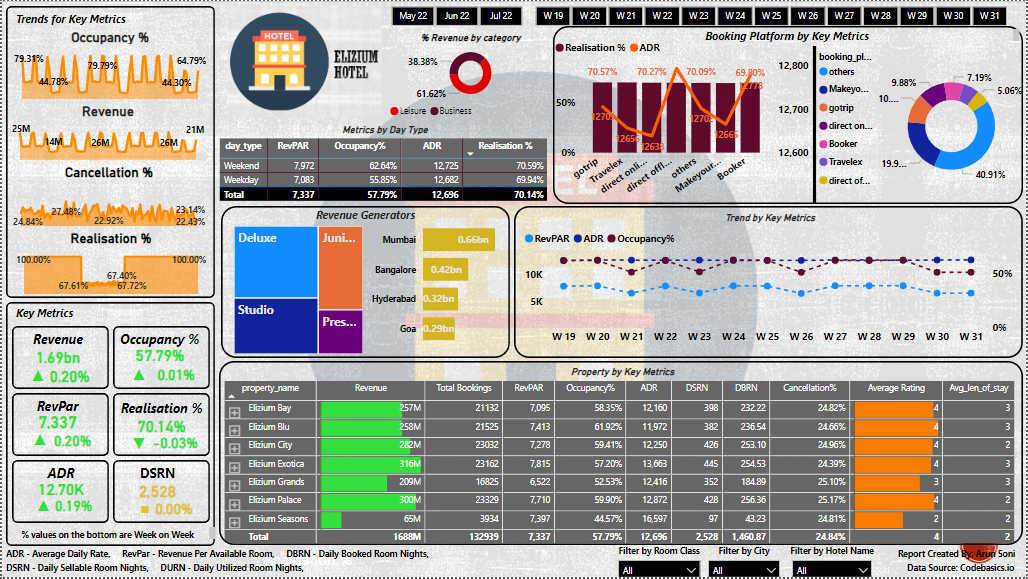

Layout of this report page (visuals, bound fields, positions):
{"tool":"powerbi","page":{"name":"Dashboard","canvas":[1280,720],"ordinal":1},"visuals":[{"type":"image","box":[0,0,1280,720],"z":0},{"type":"shape","box":[5,376.2,261.2,305],"z":0,"group":"g1"},{"type":"slicer","fields":{"Values":["dim_date.week no"]},"box":[640.6,0,639.1,38],"z":1000,"group":"g2"},{"type":"textbox","box":[5.2,681.4,1749.2,38],"z":1000},{"type":"slicer","fields":{"Values":["dim_date.mmm yy"]},"box":[461.2,0,213,38],"z":2000,"group":"g2"},{"type":"shape","box":[5,6.2,261.2,365],"z":2000},{"type":"shape","box":[138.8,573.7,121.2,78.8],"z":2000,"group":"g1"},{"type":"group","id":"g1","title":"Group 1","box":[5,376.2,261.2,305],"z":3000},{"type":"shape","box":[273.8,256.6,361.2,190],"z":4000},{"type":"areaChart","title":"Realisation %","fields":{"Category":["dim_date.date.Variation.Date Hierarchy.Year","dim_date.date.Variation.Date Hierarchy.Month","dim_date.date.Variation.Date Hierarchy.Day"],"Y":["key_measures.Realisation %"]},"box":[12.5,286.2,247.5,85],"z":5000},{"type":"lineChart","title":"Trend by Key Metrics","fields":{"Category":["dim_date.mmm yy","dim_date.week no"],"Y":["key_measures.RevPAR","key_measures.ADR"],"Y2":["key_measures.Occupancy%"]},"box":[640,256.2,636.2,190],"z":6000},{"type":"shape","box":[688.8,31.2,587.5,222.5],"z":7000},{"type":"lineStackedColumnComboChart","fields":{"Category":["fact_booking.booking_platform"],"Y":["key_measures.Realisation %"],"Y2":["key_measures.ADR"]},"box":[686.6,38.8,326.9,214.8],"z":8000},{"type":"slicer","title":"Filter by City","fields":{"Values":["dim_hotels.city"]},"box":[877.5,673.8,100,46.2],"z":9000},{"type":"card","title":"DSRN","fields":{"Values":["key_measures.DSRN"]},"box":[127.5,573.8,133.8,57.5],"z":10000},{"type":"slicer","title":"Filter by Room Class","fields":{"Values":["dim_rooms.room_class"]},"box":[765,673.8,112.5,46.2],"z":11000},{"type":"card","title":"Revenue","fields":{"Values":["key_measures.Revenue"]},"box":[7.5,406.2,125,56.2],"z":12000},{"type":"textbox","title":"Key metrics","box":[12.5,376.2,183.8,30],"z":13000,"group":"g1"},{"type":"slicer","title":"Filter by Hotel Name","fields":{"Values":["dim_hotels.property_name"]},"box":[982.5,673.8,110,46.2],"z":13000},{"type":"donutChart","title":"% Revenue by category","fields":{"Category":["dim_hotels.category"],"Y":["key_measures.Revenue"]},"box":[485,38.8,201.2,111.2],"z":14000},{"type":"card","title":"RevPar","fields":{"Values":["key_measures.RevPAR"]},"box":[7.5,490,123.8,50],"z":15000},{"type":"textbox","title":"Key metrics","box":[12.5,8.8,183.8,30],"z":16000},{"type":"card","title":"Occupancy %","fields":{"Values":["key_measures.Occupancy%"]},"box":[136.2,406.2,121.2,47.5],"z":17000},{"type":"textbox","box":[0,652.1,271.7,29.3],"z":18000},{"type":"card","title":"Realisation %","fields":{"Values":["key_measures.Realisation %"]},"box":[136.2,492.5,126.2,56.2],"z":19000},{"type":"areaChart","title":"Revenue","fields":{"Category":["dim_date.date.Variation.Date Hierarchy.Year","dim_date.date.Variation.Date Hierarchy.Month","dim_date.date.Variation.Date Hierarchy.Day"],"Y":["key_measures.Revenue"]},"box":[7.5,127.5,250,76.2],"z":20000},{"type":"card","title":"Revenue WoW","fields":{"Values":["key_measures.Revenue WoW Change%"]},"box":[40,453.8,88.8,32.5],"z":21000},{"type":"areaChart","title":"Occupancy %","fields":{"Category":["dim_date.date.Variation.Date Hierarchy.Year","dim_date.date.Variation.Date Hierarchy.Month","dim_date.date.Variation.Date Hierarchy.Day"],"Y":["key_measures.Occupancy%"]},"box":[10,35,250,92.5],"z":22000},{"type":"card","title":"Revenue WoW","fields":{"Values":["key_measures.Revpar WoW Change %"]},"box":[41.2,535,93.8,30],"z":23000},{"type":"textbox","title":"Revenue trend text","box":[299.2,550.5,170,40],"z":24000},{"type":"card","title":"Revenue WoW","fields":{"Values":["key_measures.Occupancy WoW Change %"]},"box":[175,451.2,85,32.5],"z":25000},{"type":"card","title":"Revenue WoW","fields":{"Values":["key_measures.Realisation WoW Change %"]},"box":[171.2,536.2,90,33.8],"z":26000},{"type":"card","title":"ADR","fields":{"Values":["key_measures.ADR"]},"box":[25,573.8,97.5,46.2],"z":27000},{"type":"areaChart","title":"Cancellation %","fields":{"Category":["dim_date.date.Variation.Date Hierarchy.Year","dim_date.date.Variation.Date Hierarchy.Month","dim_date.date.Variation.Date Hierarchy.Day"],"Y":["key_measures.Cancellation%"]},"box":[8.8,203.8,250,82.5],"z":28000},{"type":"textbox","title":"Revenue trend text","box":[67.3,690.9,163,29.3],"z":29000},{"type":"card","title":"revenue Icon","fields":{"Values":["CF_Color.Revenue_WoW_Icon"]},"box":[18.8,453.8,52.5,31.2],"z":30000},{"type":"barChart","fields":{"Y":["key_measures.Revenue"],"Category":["dim_hotels.city"]},"box":[461.2,261.2,182.5,178.8],"z":31000},{"type":"card","title":"revenue Icon","fields":{"Values":["KPI_Icons.Revpar_WoW_Icon"]},"box":[21.2,535,52.5,26.2],"z":32000},{"type":"tableEx","title":"Metrics by Day Type","fields":{"Values":["dim_date.day_type","key_measures.RevPAR","key_measures.Occupancy%","key_measures.ADR","key_measures.Realisation %"]},"box":[271.2,153.8,415,100],"z":33000},{"type":"textbox","title":"Heading (Rev by Cat)","box":[387.7,253.8,151.8,32.8],"z":34000},{"type":"pivotTable","title":"Property by Key Metrics","fields":{"Rows":["dim_hotels.property_name","dim_hotels.city","dim_hotels.property_id"],"Values":["key_measures.Revenue","key_measures.Total Bookings","key_measures.RevPAR","key_measures.Occupancy%","key_measures.ADR","key_measures.DSRN","key_measures.DBRN","key_measures.Cancellation%","key_measures.Average Rating","key_measures.Avg_length_of_stay"]},"box":[271.2,450,1005,230],"z":35000},{"type":"card","title":"revenue Icon","fields":{"Values":["KPI_Icons.Occupancy%_WoW_Icon"]},"box":[145,450,52.5,36.2],"z":36000},{"type":"card","fields":{"Values":["KPI_Icons.Realisation_WoW_Icon"]},"box":[150,535,42.5,37.5],"z":37000},{"type":"card","title":"Revenue WoW","fields":{"Values":["key_measures.DSRN WoW Change %"]},"box":[182.5,620,65,30],"z":38000},{"type":"donutChart","title":"Donut Chart","fields":{"Y":["key_measures.Revenue"],"Category":["fact_booking.booking_platform"]},"box":[1016.1,56.1,263.9,200.1],"z":39000},{"type":"textbox","title":"Heading (Rev by Cat)","box":[693.5,30.2,583.1,25.9],"z":40000},{"type":"treemap","title":"Donut Chart","fields":{"Values":["key_measures.Total Bookings"],"Group":["dim_rooms.room_class"]},"box":[285,276.2,171.2,170],"z":41000},{"type":"group","id":"g2","title":"Group 2","box":[461.2,0,818.8,38.8],"z":42000},{"type":"shape","box":[12.5,573.7,121.2,78.8],"z":43000,"group":"g1"},{"type":"card","title":"revenue Icon","fields":{"Values":["KPI_Icons.DSRN_WoW_Icon"]},"box":[161.2,613.8,35,41.2],"z":43000},{"type":"shape","box":[138.8,490,121.2,78.8],"z":44000,"group":"g1"},{"type":"card","title":"Revenue WoW","fields":{"Values":["key_measures.ADR WoW Change %"]},"box":[50,615,78.8,33.8],"z":44000},{"type":"shape","box":[927.5,56.2,176.2,196.2],"z":45000},{"type":"shape","box":[12.5,490,121.2,78.8],"z":45000,"group":"g1"},{"type":"shape","box":[138.8,406.2,121.2,78.8],"z":46000,"group":"g1"},{"type":"card","title":"revenue Icon","fields":{"Values":["KPI_Icons.ADR_WoW_Icon"]},"box":[36.2,615,31.2,32.5],"z":46000},{"type":"image","box":[276.2,0,202.5,150],"z":47000},{"type":"shape","box":[12.5,406.2,121.2,78.8],"z":47000,"group":"g1"}]}

Visuals, with their boxes in screenshot pixels (x1, y1, x2, y2), scaled from the page's 1280x720 canvas onto the 1028x579 screenshot:
image: (x1=0, y1=0, x2=1027, y2=578)
shape: (x1=4, y1=303, x2=214, y2=548)
slicer - dim_date.week no: (x1=514, y1=0, x2=1027, y2=31)
textbox: (x1=4, y1=548, x2=1027, y2=578)
slicer - dim_date.mmm yy: (x1=370, y1=0, x2=541, y2=31)
shape: (x1=4, y1=5, x2=214, y2=299)
shape: (x1=111, y1=461, x2=209, y2=525)
"Group 1" group: (x1=4, y1=303, x2=214, y2=548)
shape: (x1=220, y1=206, x2=510, y2=359)
"Realisation %" areaChart: (x1=10, y1=230, x2=209, y2=299)
"Trend by Key Metrics" lineChart: (x1=514, y1=206, x2=1025, y2=359)
shape: (x1=553, y1=25, x2=1025, y2=204)
lineStackedColumnComboChart - fact_booking.booking_platform x key_measures.Realisation %: (x1=551, y1=31, x2=814, y2=204)
"Filter by City" slicer: (x1=705, y1=542, x2=785, y2=578)
"DSRN" card: (x1=102, y1=461, x2=210, y2=508)
"Filter by Room Class" slicer: (x1=614, y1=542, x2=705, y2=578)
"Revenue" card: (x1=6, y1=327, x2=106, y2=372)
"Key metrics" textbox: (x1=10, y1=303, x2=158, y2=327)
"Filter by Hotel Name" slicer: (x1=789, y1=542, x2=877, y2=578)
"% Revenue by category" donutChart: (x1=390, y1=31, x2=551, y2=121)
"RevPar" card: (x1=6, y1=394, x2=105, y2=434)
"Key metrics" textbox: (x1=10, y1=7, x2=158, y2=31)
"Occupancy %" card: (x1=109, y1=327, x2=207, y2=365)
textbox: (x1=0, y1=524, x2=218, y2=548)
"Realisation %" card: (x1=109, y1=396, x2=211, y2=441)
"Revenue" areaChart: (x1=6, y1=103, x2=207, y2=164)
"Revenue WoW" card: (x1=32, y1=365, x2=103, y2=391)
"Occupancy %" areaChart: (x1=8, y1=28, x2=209, y2=103)
"Revenue WoW" card: (x1=33, y1=430, x2=108, y2=454)
"Revenue trend text" textbox: (x1=240, y1=443, x2=377, y2=475)
"Revenue WoW" card: (x1=141, y1=363, x2=209, y2=389)
"Revenue WoW" card: (x1=137, y1=431, x2=210, y2=458)
"ADR" card: (x1=20, y1=461, x2=98, y2=499)
"Cancellation %" areaChart: (x1=7, y1=164, x2=208, y2=230)
"Revenue trend text" textbox: (x1=54, y1=556, x2=185, y2=578)
"revenue Icon" card: (x1=15, y1=365, x2=57, y2=390)
barChart - key_measures.Revenue x dim_hotels.city: (x1=370, y1=210, x2=517, y2=354)
"revenue Icon" card: (x1=17, y1=430, x2=59, y2=451)
"Metrics by Day Type" tableEx: (x1=218, y1=124, x2=551, y2=204)
"Heading (Rev by Cat)" textbox: (x1=311, y1=204, x2=433, y2=230)
"Property by Key Metrics" pivotTable: (x1=218, y1=362, x2=1025, y2=547)
"revenue Icon" card: (x1=116, y1=362, x2=159, y2=391)
card - KPI_Icons.Realisation_WoW_Icon: (x1=120, y1=430, x2=155, y2=460)
"Revenue WoW" card: (x1=147, y1=499, x2=199, y2=523)
"Donut Chart" donutChart: (x1=816, y1=45, x2=1027, y2=206)
"Heading (Rev by Cat)" textbox: (x1=557, y1=24, x2=1025, y2=45)
"Donut Chart" treemap: (x1=229, y1=222, x2=366, y2=359)
"Group 2" group: (x1=370, y1=0, x2=1027, y2=31)
shape: (x1=10, y1=461, x2=107, y2=525)
"revenue Icon" card: (x1=129, y1=494, x2=158, y2=527)
shape: (x1=111, y1=394, x2=209, y2=457)
"Revenue WoW" card: (x1=40, y1=495, x2=103, y2=522)
shape: (x1=745, y1=45, x2=886, y2=203)
shape: (x1=10, y1=394, x2=107, y2=457)
shape: (x1=111, y1=327, x2=209, y2=390)
"revenue Icon" card: (x1=29, y1=495, x2=54, y2=521)
image: (x1=222, y1=0, x2=384, y2=121)
shape: (x1=10, y1=327, x2=107, y2=390)
